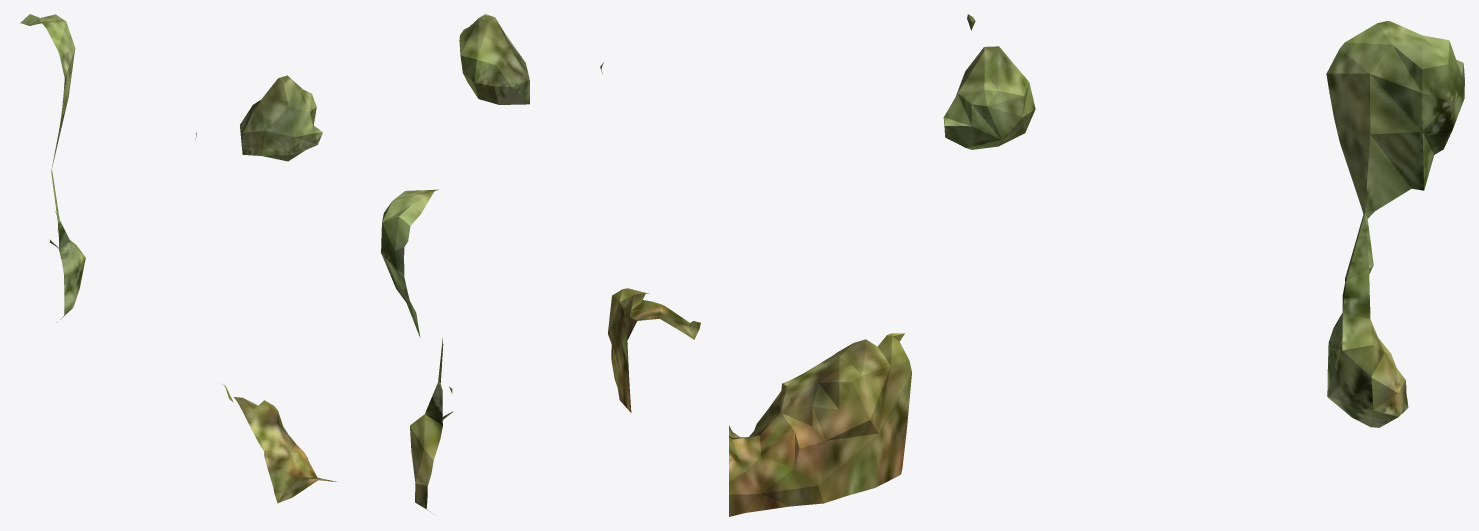
3 views of the same model, side by side, from view 1: azimuth 30°, elevation 25°; view 2: azimuth 150°, elevation 25°; view 3: azimuth 270°, elevation 25° (orthographic). The views are drawn at different scales.
Size of the model in its own units: 0.5738 by 1.58 by 2.15.
1 material, 1 textured.
